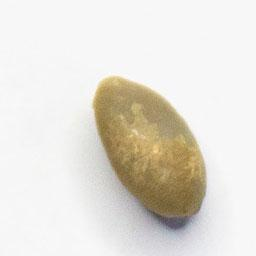peaberry: (87, 70, 212, 223)
